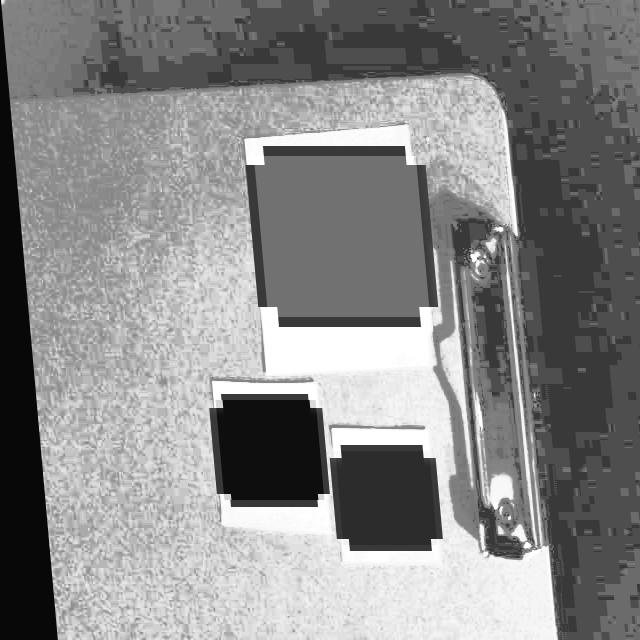qr_code: (250, 156, 423, 317), (207, 400, 313, 500), (326, 451, 426, 545)
